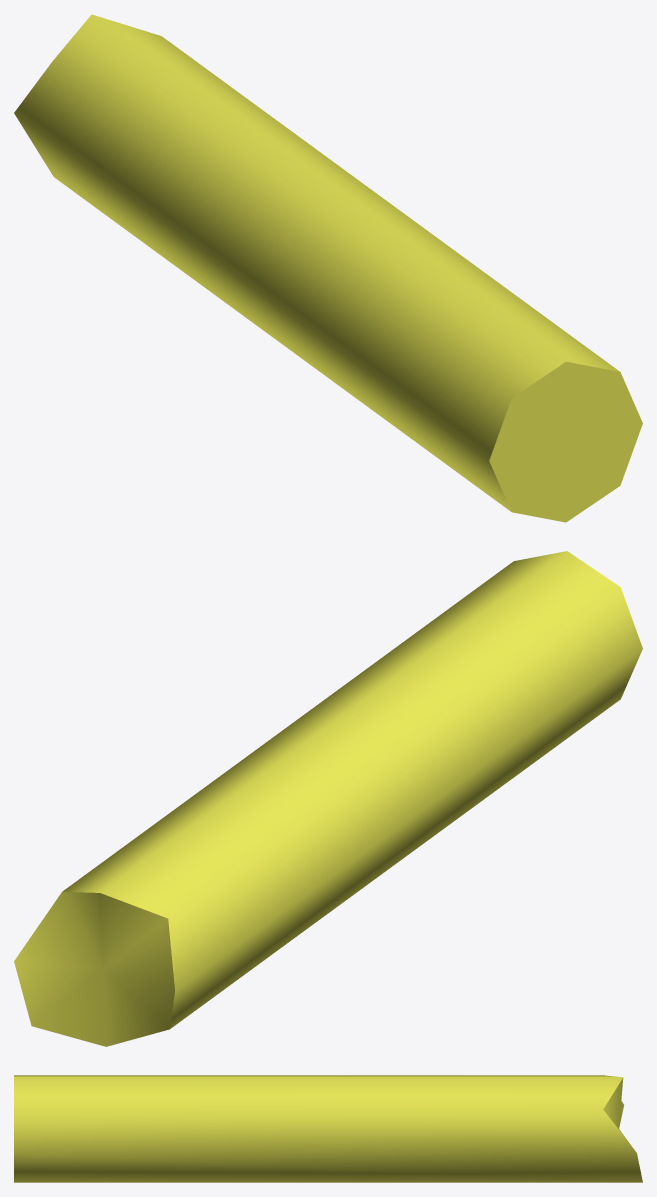
The model's file is TIza Rota 2.fbx.
3 renders of one model, top to bottom at view 1: azimuth 30°, elevation 25°; view 2: azimuth 150°, elevation 25°; view 3: azimuth 270°, elevation 25°, orthographic. The views are drawn at different scales.
Visible parts, largest first — view 1: TIza_Rota_2; view 2: TIza_Rota_2; view 3: TIza_Rota_2.
Boxes of the visible parts, bbox=[...] form: TIza_Rota_2: bbox=[14, 14, 642, 522]; TIza_Rota_2: bbox=[14, 551, 642, 1046]; TIza_Rota_2: bbox=[14, 1075, 642, 1182].
Bounding box in the file's own units: 0.02 × 0.02 × 0.1103.
